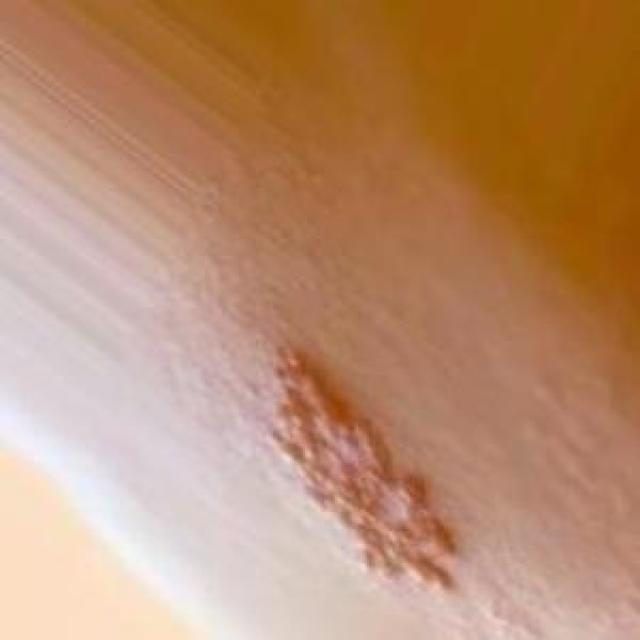Shingles: (262, 342, 459, 600)
